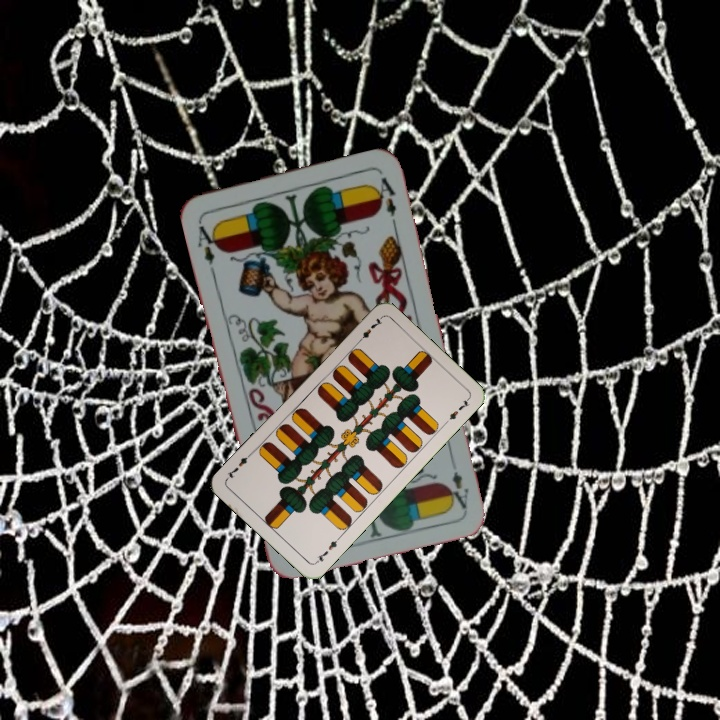E7: (352, 314, 385, 346), (312, 533, 343, 566)
EA: (193, 216, 223, 267), (442, 467, 471, 512)
